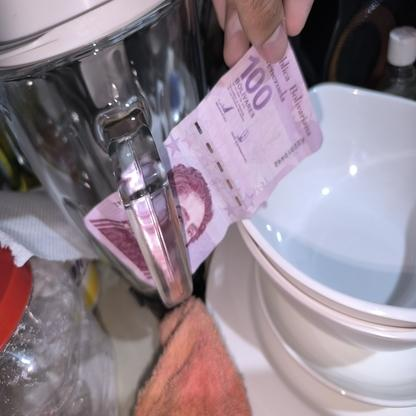one_hundred-front-vef: (82, 38, 324, 289)
